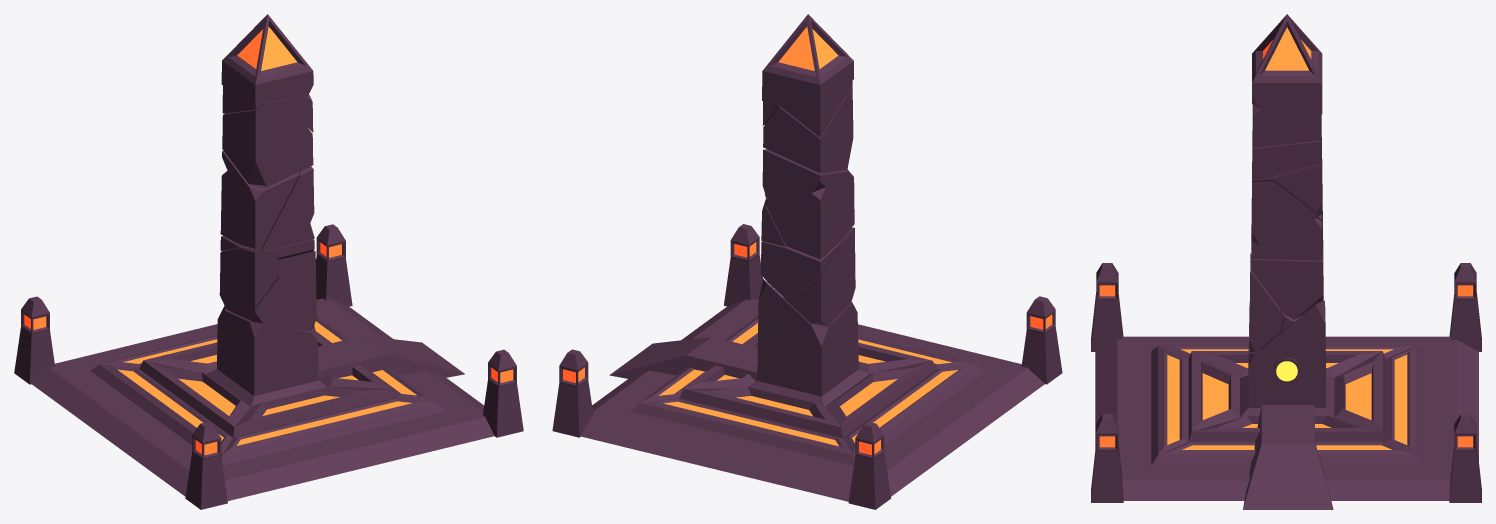
File: Obelisk_02.fbx
3 renders of one model, left to right at view 1: azimuth 30°, elevation 25°; view 2: azimuth 150°, elevation 25°; view 3: azimuth 270°, elevation 25°, orthographic. The views are drawn at different scales.
Visible parts, largest first — view 1: Cube.008; view 2: Cube.008; view 3: Cube.008.
Part boxes in pixels (bbox=[...]): Cube.008: bbox=[14, 14, 523, 509]; Cube.008: bbox=[552, 14, 1062, 509]; Cube.008: bbox=[1091, 14, 1481, 509].
Size of the model in its own units: 6480 by 7133 by 6220.
